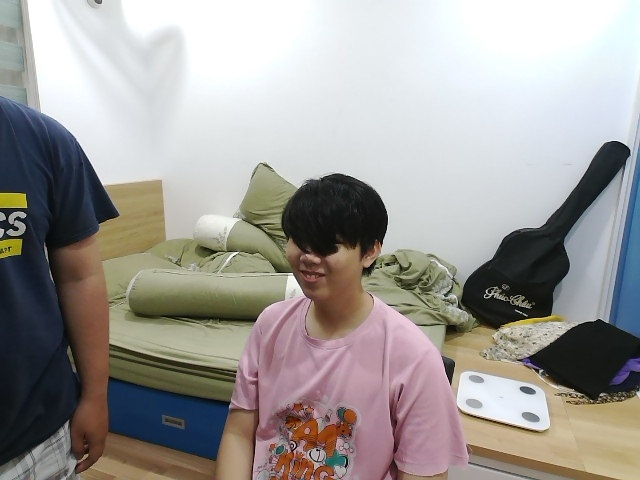face: (283, 173, 389, 300)
